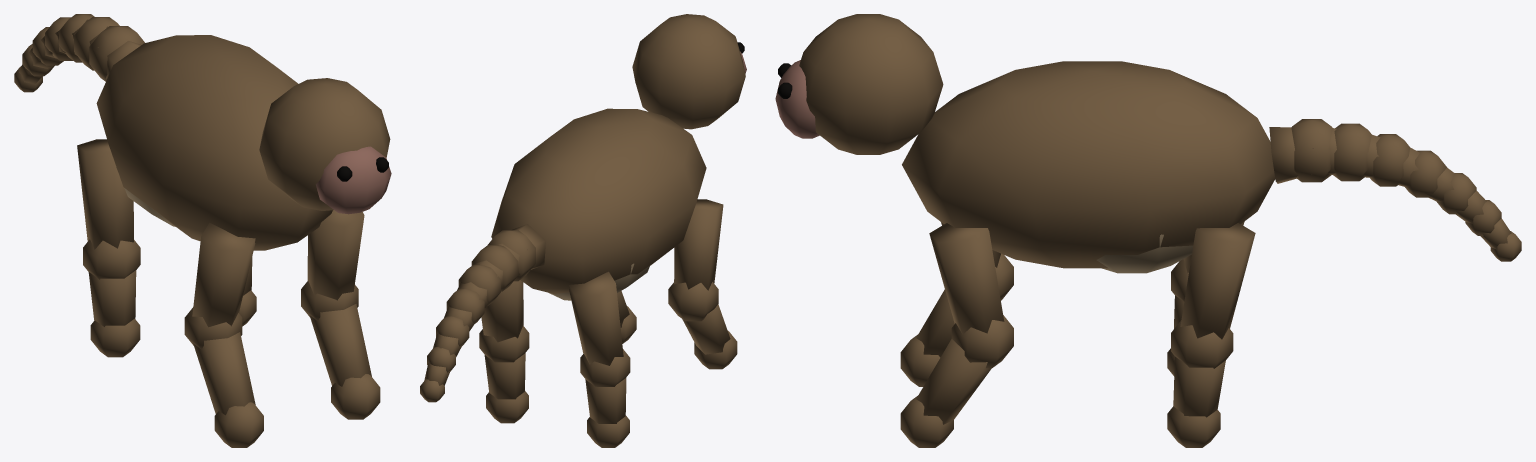
Rendered from macaque.glb.
3 renders of one model, left to right at view 1: azimuth 30°, elevation 25°; view 2: azimuth 150°, elevation 25°; view 3: azimuth 270°, elevation 25°, orthographic. The views are drawn at different scales.
Parts seen in each view (by area): view 1: Primate-macaque; view 2: Primate-macaque; view 3: Primate-macaque.
Part boxes in pixels (x1,y1,x2,y2): Primate-macaque: [14, 14, 391, 447]; Primate-macaque: [420, 14, 746, 447]; Primate-macaque: [775, 14, 1521, 447].
Bounding box in the file's own units: 0.2663 × 0.5508 × 0.9391.
